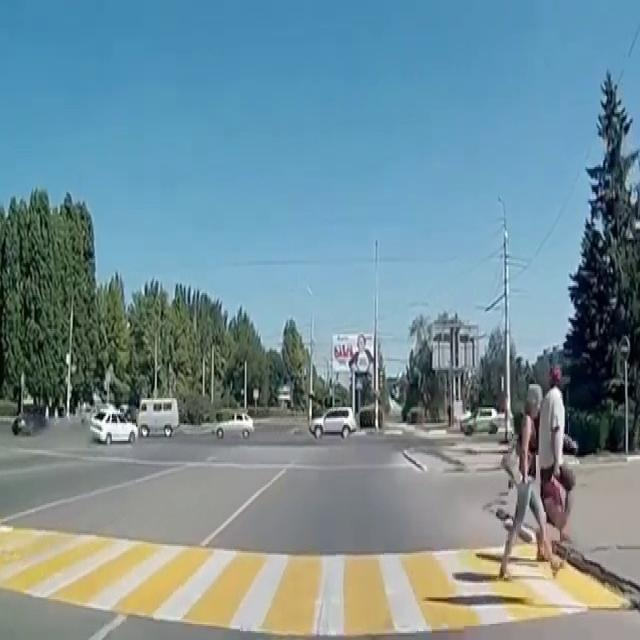multiple_accident: (80, 391, 179, 444)
normal: (299, 387, 373, 454), (200, 389, 264, 452)
